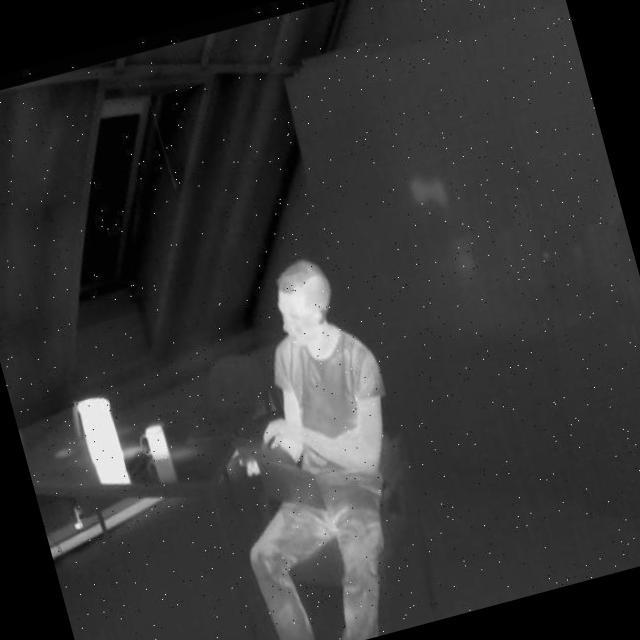person: (189, 245, 447, 640)
